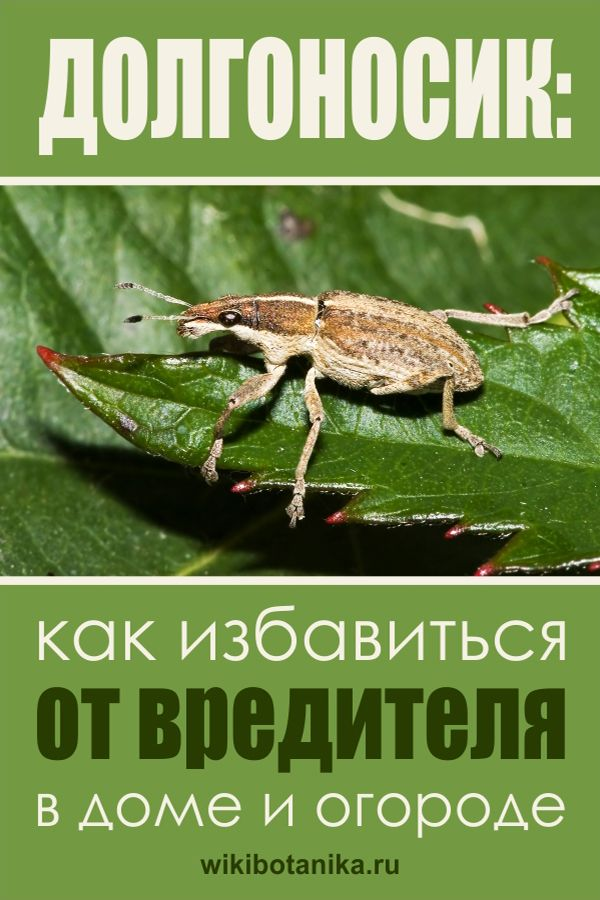dolgonosik: (106, 273, 580, 518)
